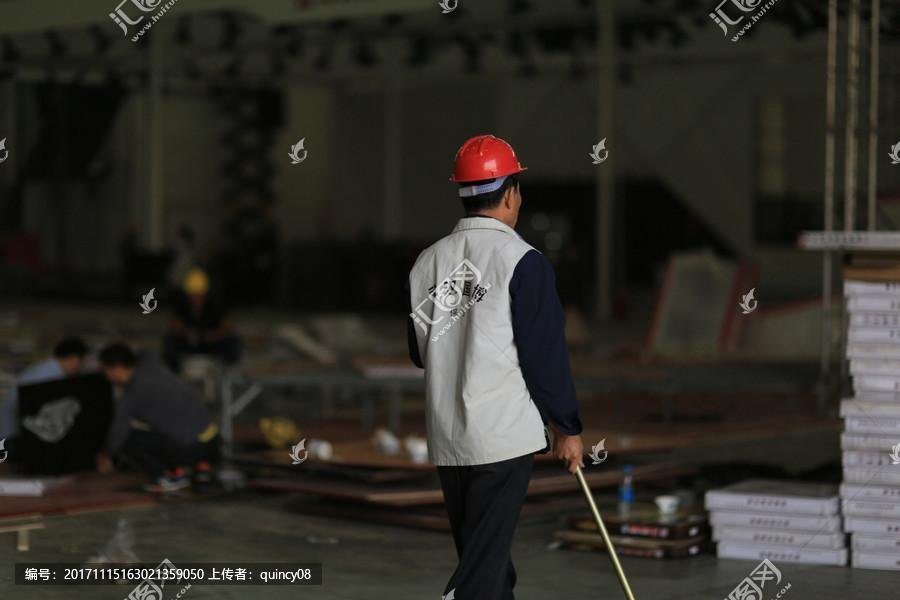helmet: (447, 134, 529, 185)
